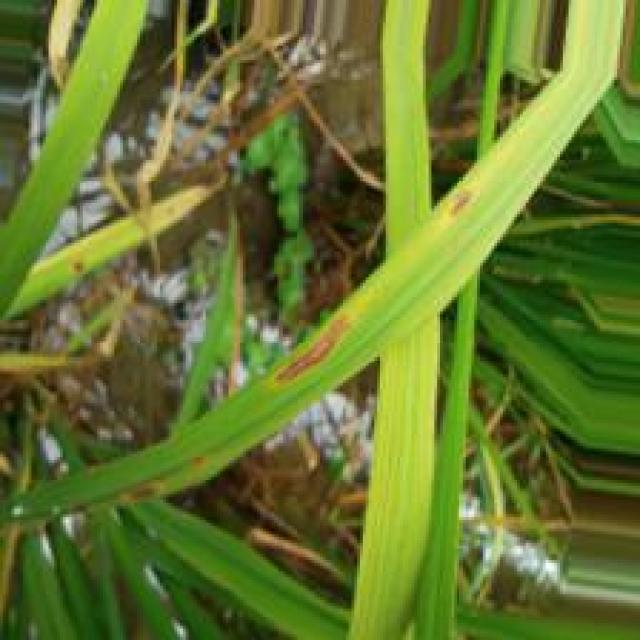Narrow_Brown_Leaf_Spot: (258, 279, 383, 389), (108, 452, 200, 496), (431, 191, 485, 219)
